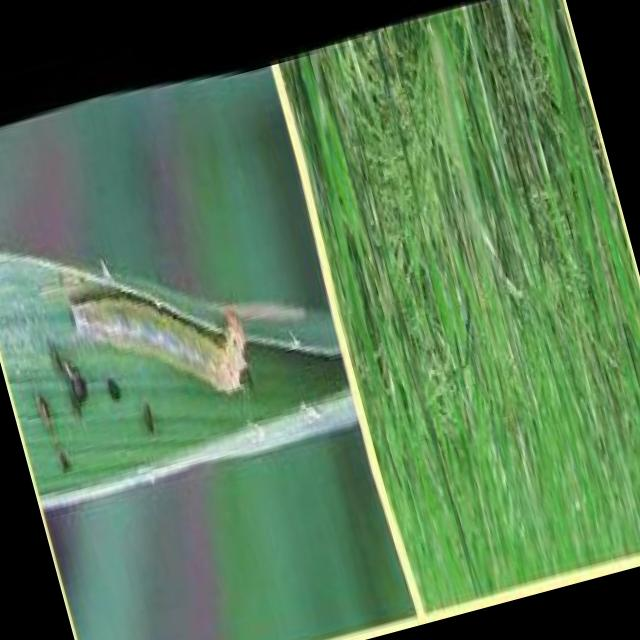leaf-folder: (39, 221, 288, 480)
